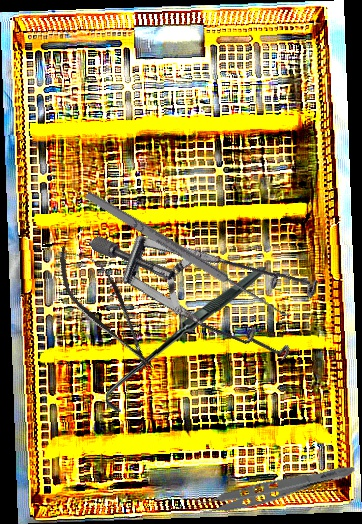Hook Surgical: (82, 181, 297, 323), (105, 264, 267, 415)
Micro Scissor: (43, 233, 170, 383)
Speculum: (88, 147, 343, 412)
Tissue Forceps: (187, 450, 358, 524)
